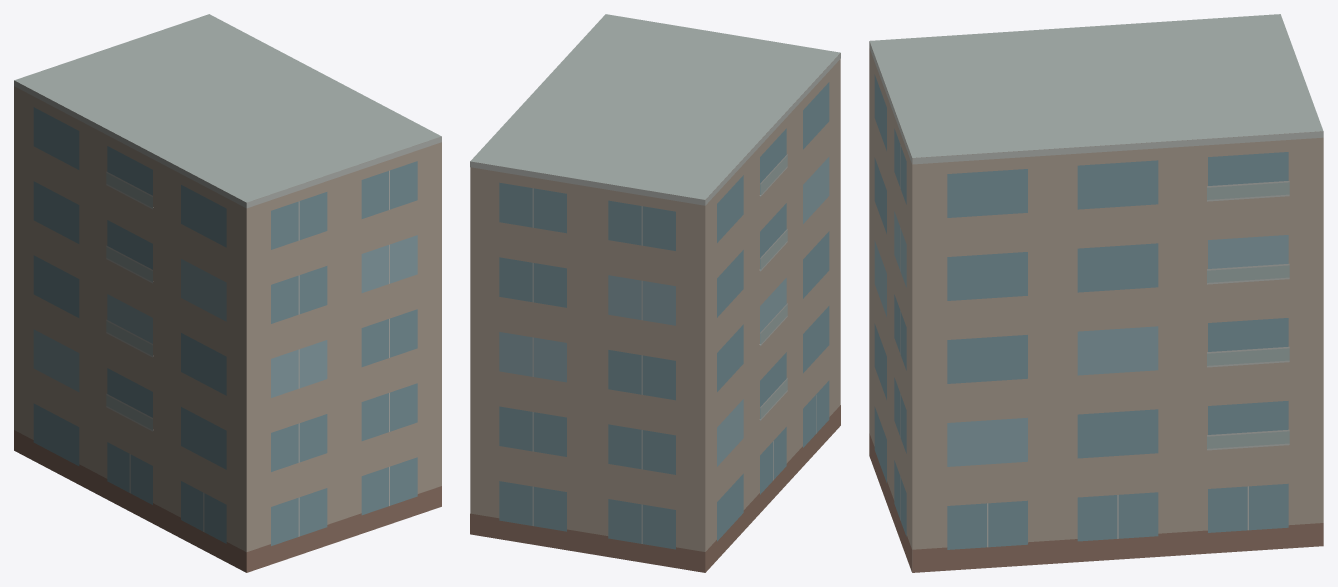
Rendered from survey-upis-32523895.glb.
The picture shows the model from 3 angles, left to right: view 1: azimuth 30°, elevation 25°; view 2: azimuth 150°, elevation 25°; view 3: azimuth 270°, elevation 25°; orthographic projection. The views are drawn at different scales.
Visible parts, largest first — view 1: survey-upis-32523895.tmp; view 2: survey-upis-32523895.tmp; view 3: survey-upis-32523895.tmp.
Boxes of the visible parts, x1,y1,x2,y2 form: survey-upis-32523895.tmp: (14,14,441,572); survey-upis-32523895.tmp: (470,14,840,572); survey-upis-32523895.tmp: (869,14,1323,572).
Bounding box in the file's own units: 11.62 × 15.6 × 15.49.
